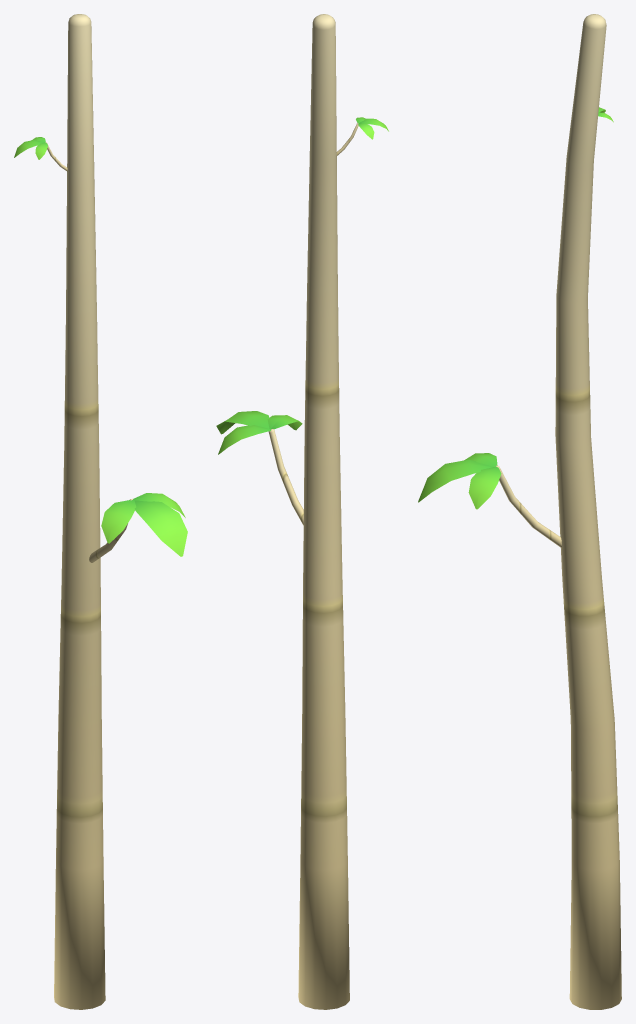
File: Bamboo002.fbx
3 renders of one model, left to right at view 1: azimuth 30°, elevation 25°; view 2: azimuth 210°, elevation 25°; view 3: azimuth 270°, elevation 25°, orthographic.
Parts seen in each view (by area): view 1: Bamboo002; view 2: Bamboo002; view 3: Bamboo002.
Part boxes in pixels (left/top/right/bottom): Bamboo002: left=14, top=14, right=187, bottom=1009; Bamboo002: left=216, top=14, right=388, bottom=1009; Bamboo002: left=418, top=14, right=621, bottom=1009.
Bounding box in the file's own units: 37.52 × 321 × 60.28.
